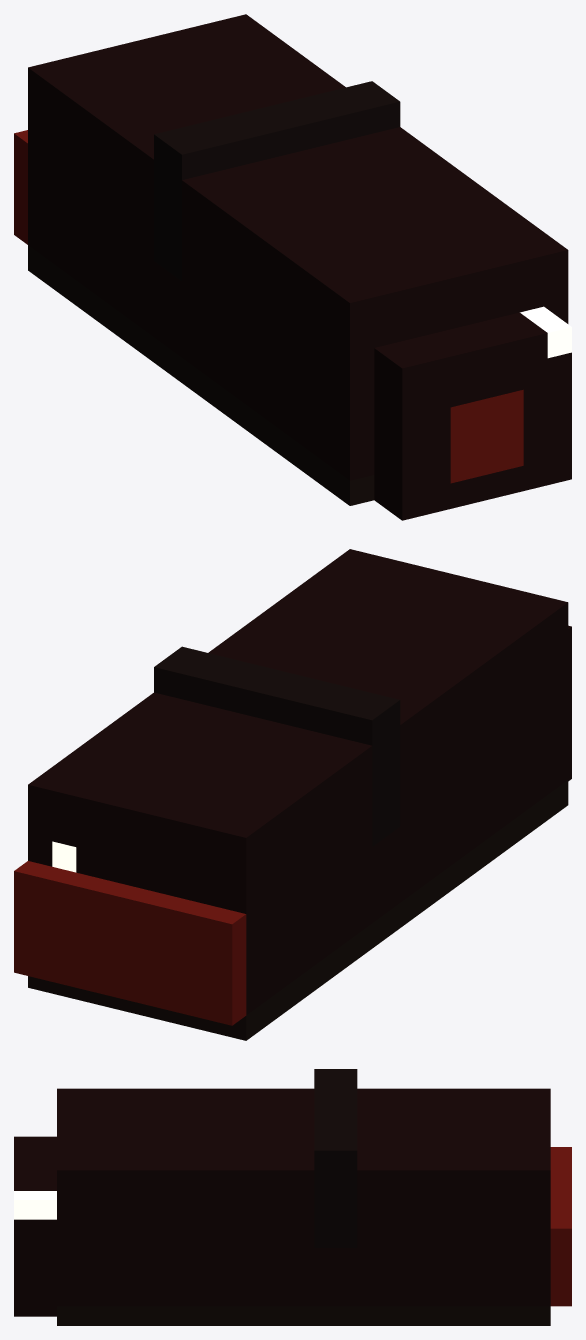
The model's file is mystic_masterwork_boot_foot_L.glb.
3 views of the same model, one above another, from view 1: azimuth 30°, elevation 25°; view 2: azimuth 150°, elevation 25°; view 3: azimuth 270°, elevation 25° (orthographic). The views are drawn at different scales.
Visible parts, largest first — view 1: mystic_masterwork_boot_foot_L; view 2: mystic_masterwork_boot_foot_L; view 3: mystic_masterwork_boot_foot_L.
Boxes of the visible parts, bbox=[...] form: mystic_masterwork_boot_foot_L: bbox=[14, 14, 571, 520]; mystic_masterwork_boot_foot_L: bbox=[14, 549, 571, 1040]; mystic_masterwork_boot_foot_L: bbox=[14, 1069, 571, 1325].
Bounding box in the file's own units: 0.108 × 0.108 × 0.312.
